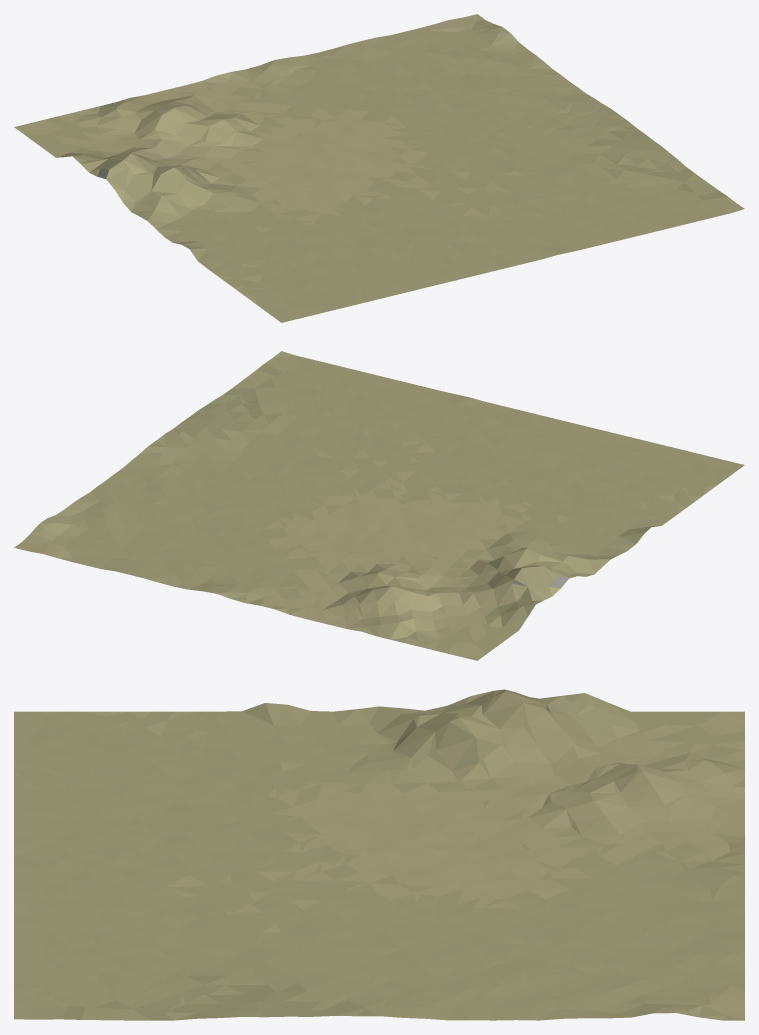
Rendered from Ground_0_-7.glb.
The picture shows the model from 3 angles, top to bottom: view 1: azimuth 30°, elevation 25°; view 2: azimuth 150°, elevation 25°; view 3: azimuth 270°, elevation 25°; orthographic projection. The views are drawn at different scales.
Parts seen in each view (by area): view 1: Ground_0_-7; view 2: Ground_0_-7; view 3: Ground_0_-7.
Boxes of the visible parts, x1=… form: Ground_0_-7: x1=14, y1=14, x2=744, y2=322; Ground_0_-7: x1=14, y1=351, x2=744, y2=660; Ground_0_-7: x1=14, y1=689, x2=744, y2=1020.
Bounding box in the file's own units: 768 × 40.44 × 768.
